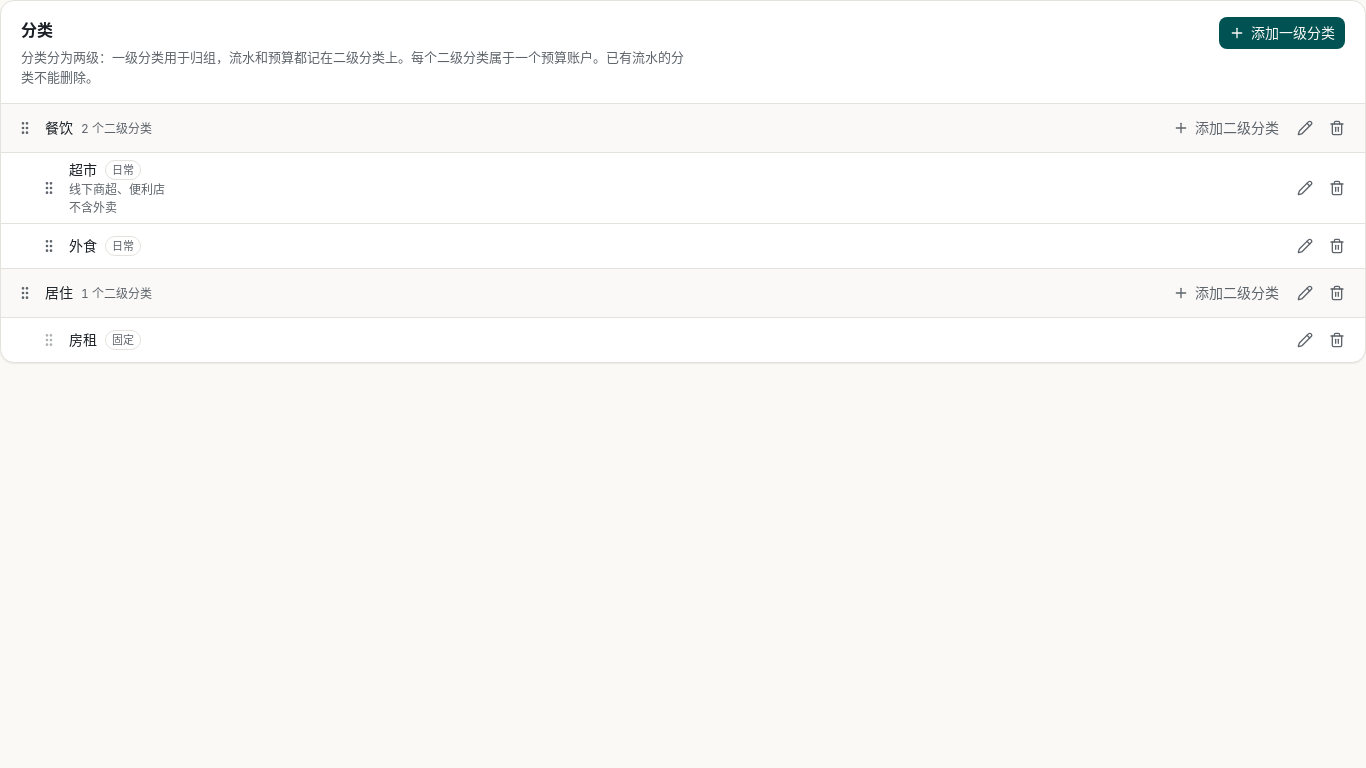
CategoriesSection › edits only the description, with a counter, and sends only that field
Click the button named "编辑「外食」": (1305, 246) [1289,230,1321,262]
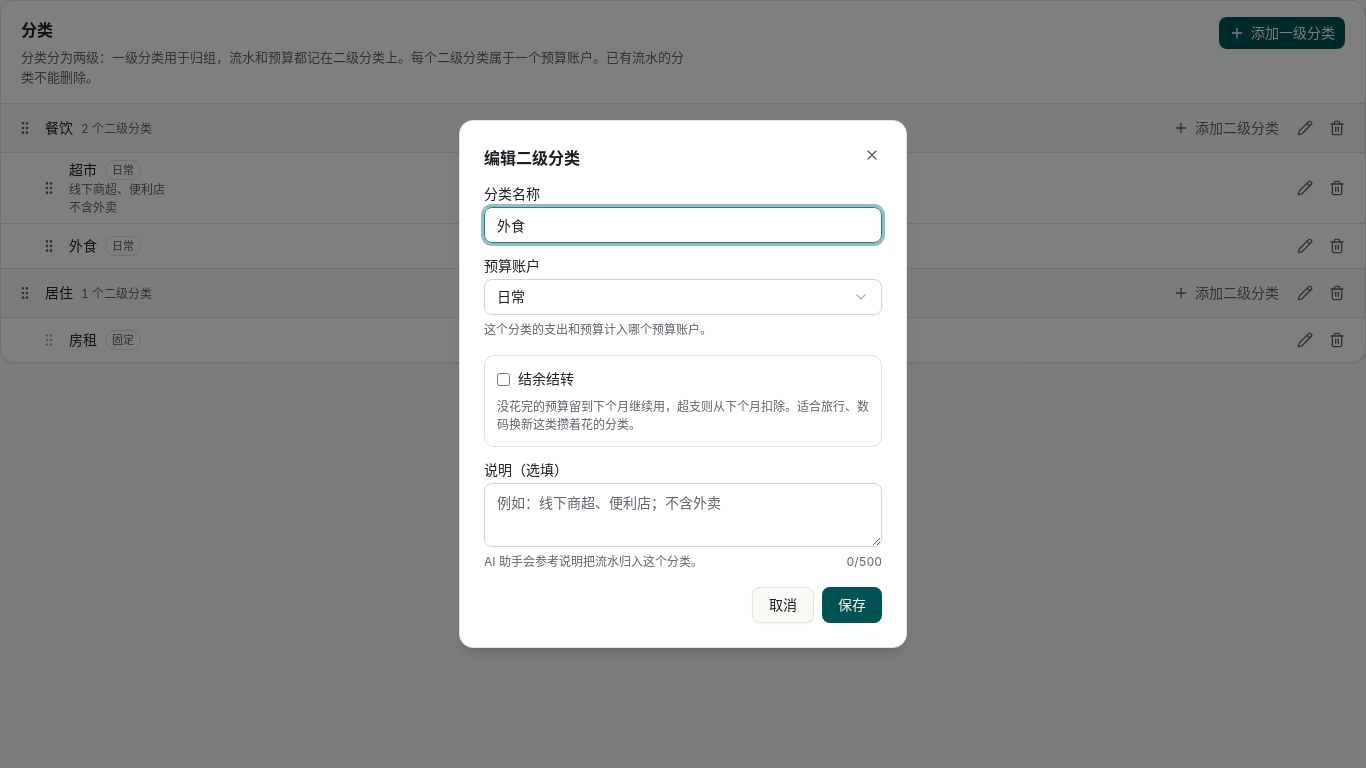
Expected: the text "0/500" is shown, [846,553,882,571]
Expected: the dropdown named "预算账户" reads "日常", [484,279,882,315]
In the text box labelled "说明（选填）": (683, 515) [484,483,882,547], type "餐馆堂食"
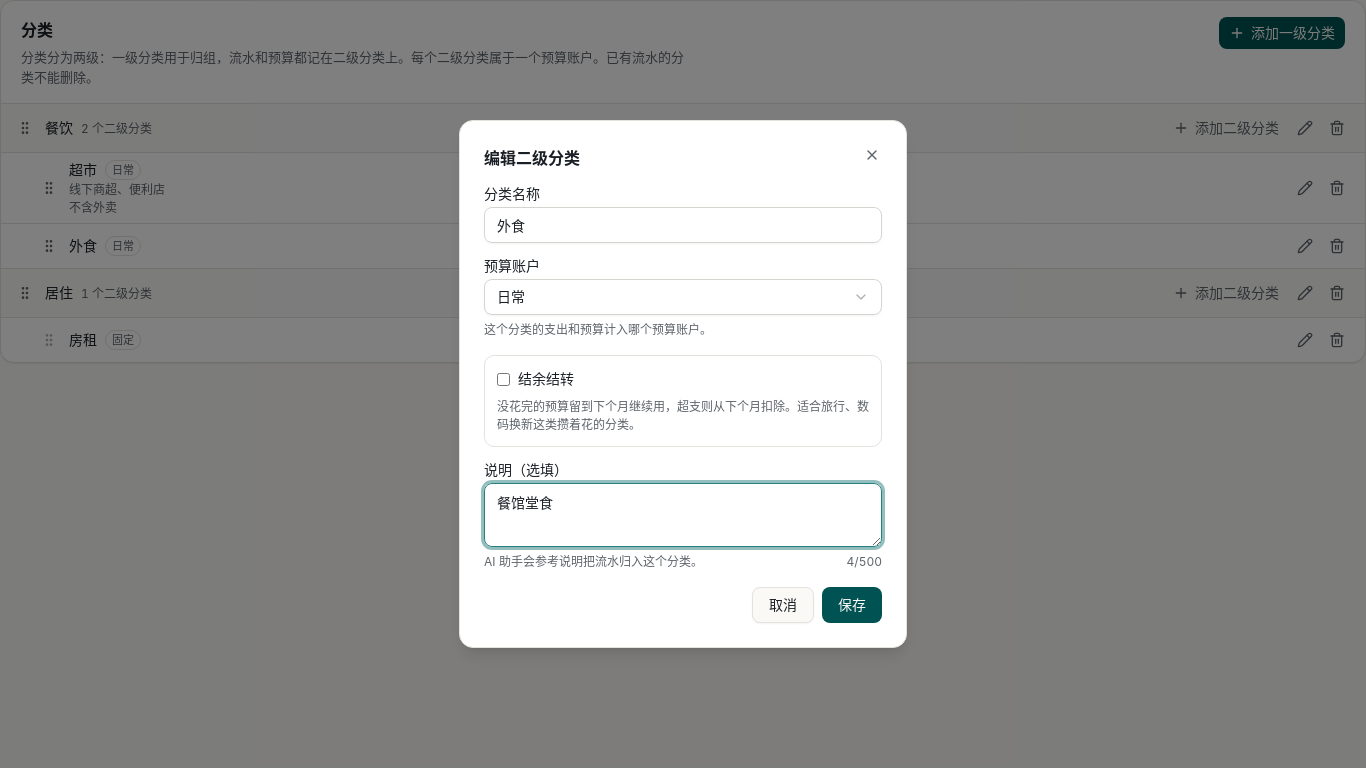
Expected: the text "4/500" is shown, [846,553,882,571]
Click the button "保存": (852, 605) [822,587,882,623]
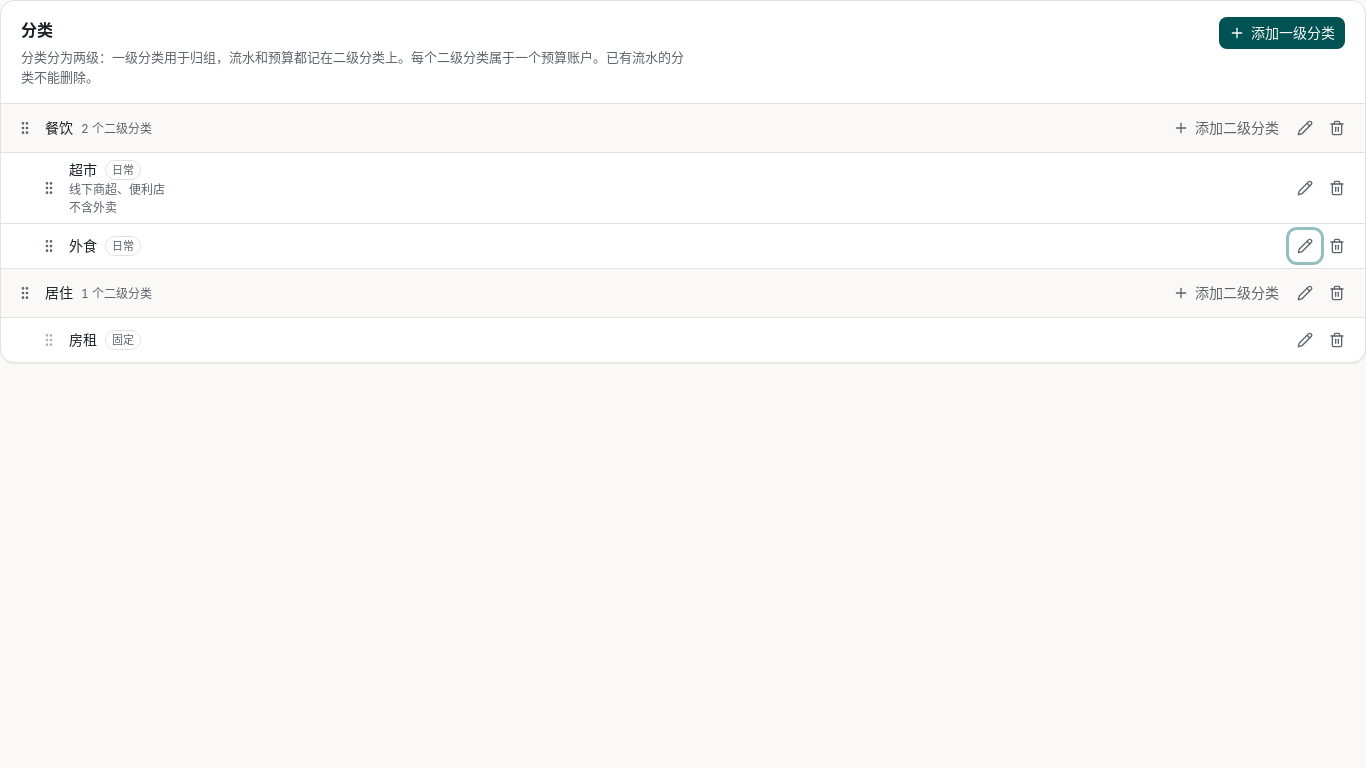
Expected: the dialog is gone
